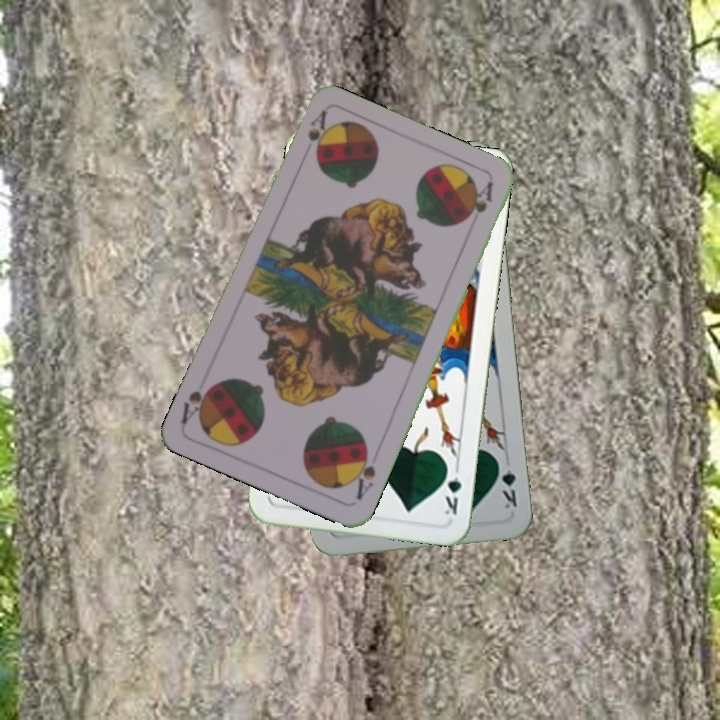GK: (439, 460, 465, 518), (494, 455, 520, 511)
SA: (348, 443, 379, 503), (303, 107, 329, 158)
